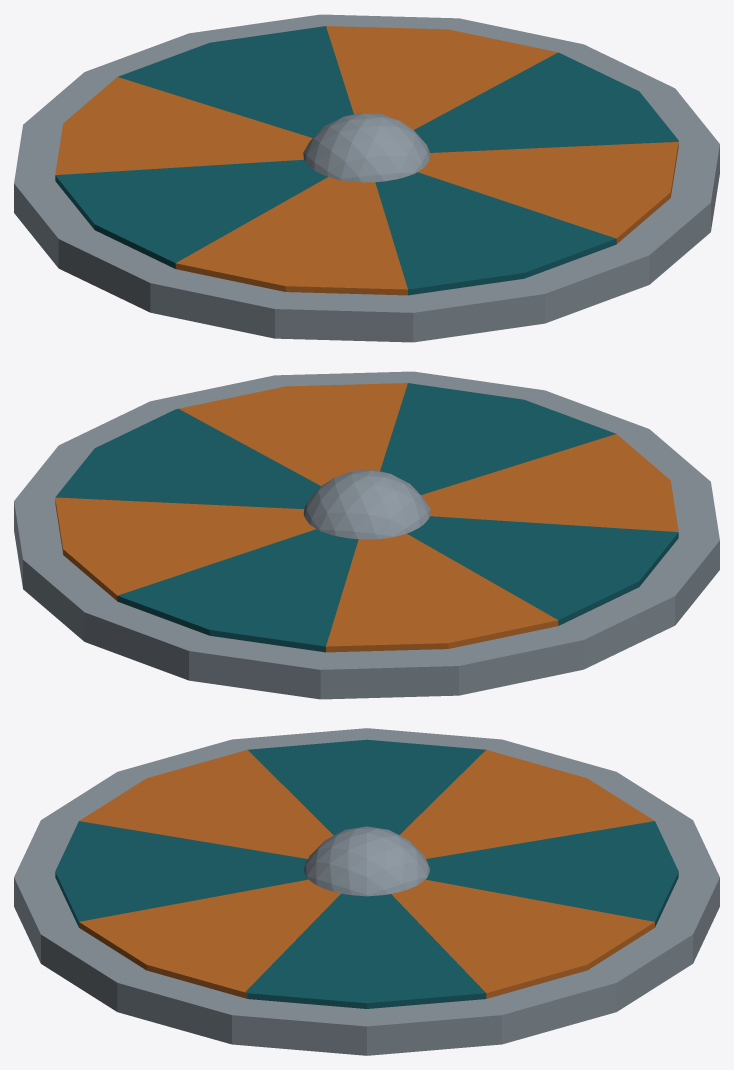
File: first_shield.glb
3 views of the same model, one above another, from view 1: azimuth 30°, elevation 25°; view 2: azimuth 150°, elevation 25°; view 3: azimuth 270°, elevation 25° (orthographic).
Parts seen in each view (by area): view 1: Cylinder, Icosphere; view 2: Cylinder, Icosphere; view 3: Cylinder, Icosphere.
Part boxes in pixels (x1,y1,x2,y2): Cylinder: [14, 14, 719, 342]; Icosphere: [303, 113, 430, 182]; Cylinder: [14, 371, 719, 699]; Icosphere: [303, 470, 430, 539]; Cylinder: [14, 728, 719, 1055]; Icosphere: [304, 826, 429, 896].
Size of the model in its own units: 2 by 0.3671 by 2.
